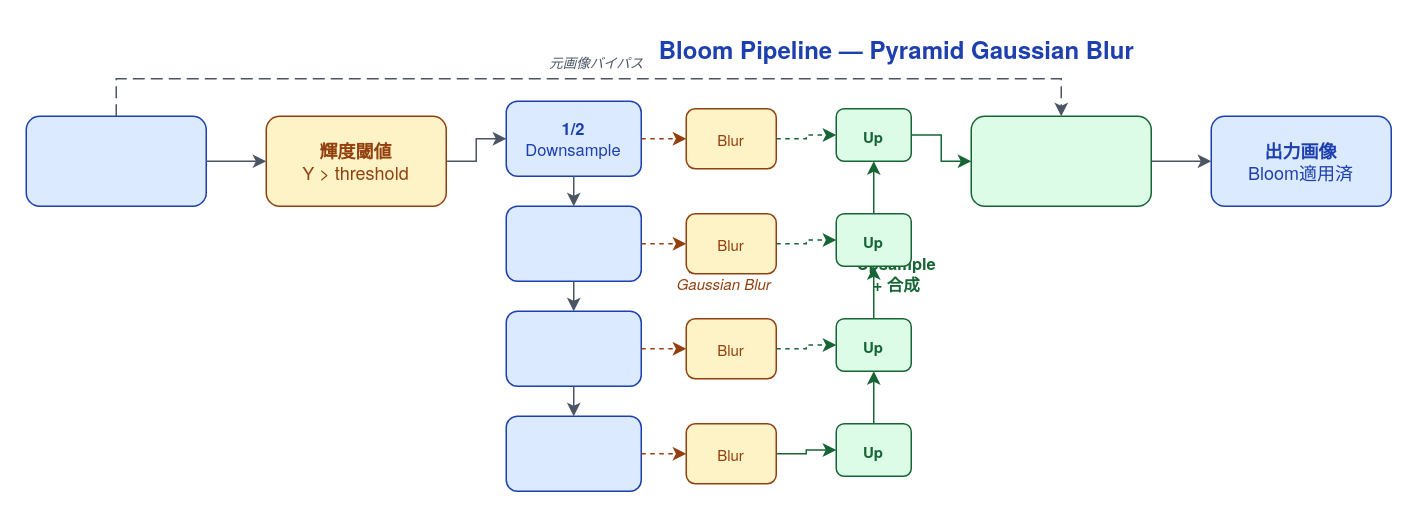
The diagram is 1418 pixels wide and 518 high, and some of its shapes have lost their labels. The box of each missing label's shape, as (x1, y1, x2, y2) in pixels:
1/16 Downsample: (505, 415, 641, 491)
1/4 Downsample: (505, 205, 641, 281)
1/8 Downsample: (505, 310, 641, 386)
入力画像 (HDR): (25, 115, 206, 206)
最終合成 元画像 + Bloom: (970, 115, 1151, 206)
